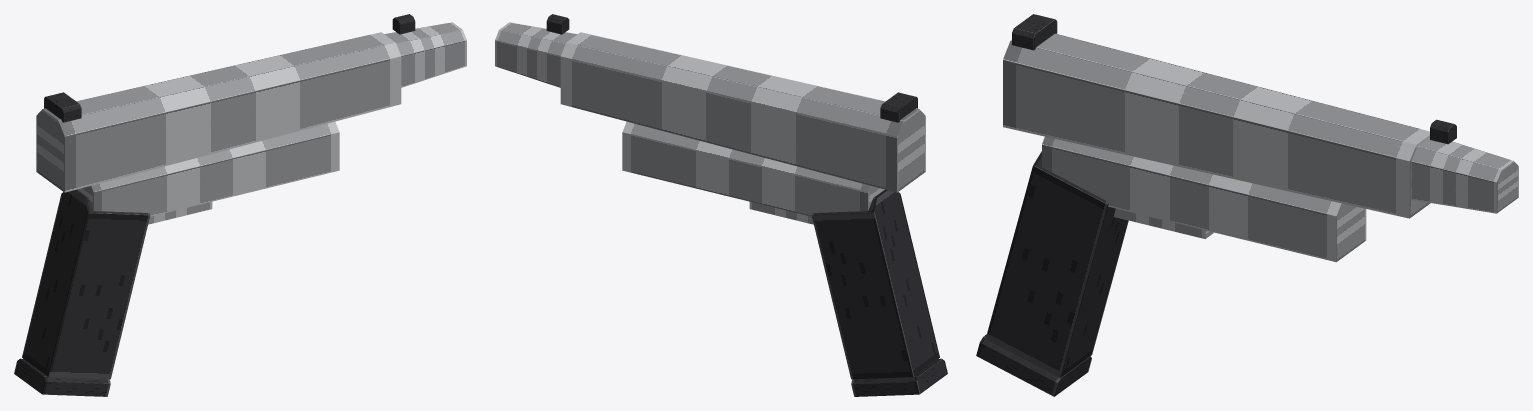
The model's file is Deagle.glb.
3 views of the same model, side by side, from view 1: azimuth 30°, elevation 25°; view 2: azimuth 150°, elevation 25°; view 3: azimuth 330°, elevation 25° (orthographic). The views are drawn at different scales.
Visible parts, largest first — view 1: Deagle; view 2: Deagle; view 3: Deagle.
Boxes of the visible parts, x1,y1,x2,y2 form: Deagle: (14,14,466,396); Deagle: (495,14,947,396); Deagle: (976,14,1518,396).
Bounding box in the file's own units: 0.2795 × 0.1825 × 0.032.
1 material, 1 textured.
